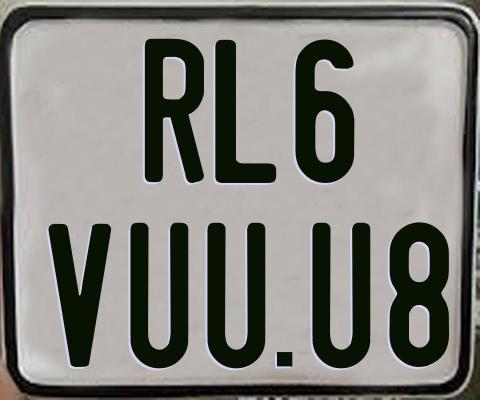6: (295, 38, 358, 183)
8: (386, 222, 446, 370)
L: (215, 40, 282, 185)
R: (143, 38, 203, 188)
U: (128, 221, 191, 371), (310, 223, 374, 368), (207, 220, 265, 365)
V: (48, 223, 113, 371)
